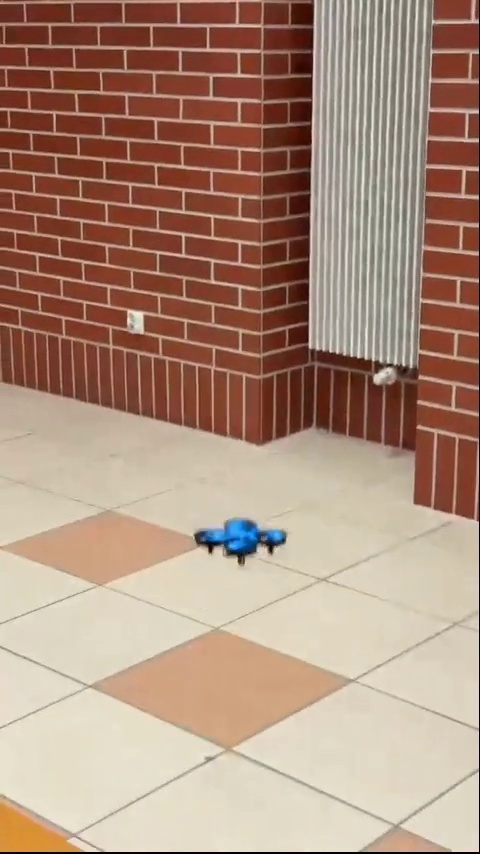drone: (200, 519, 289, 563)
